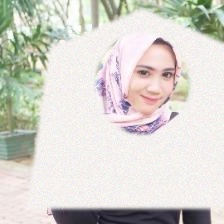Mukena: (30, 7, 224, 209)
